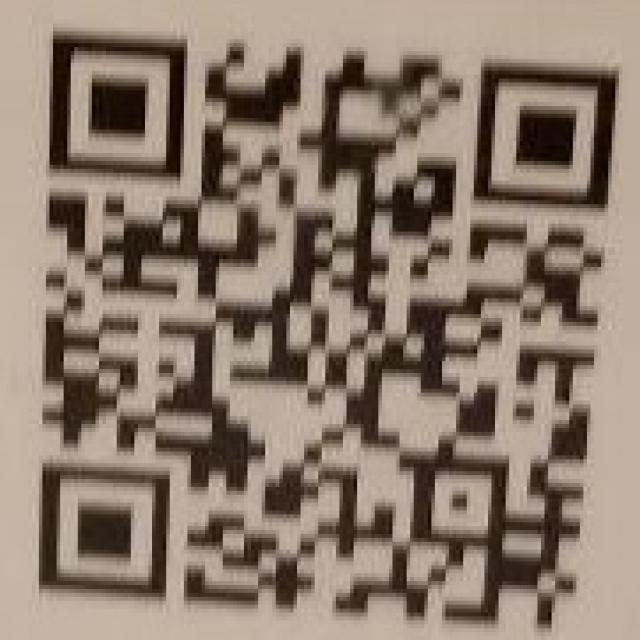QR_CODE: (36, 26, 621, 633)
